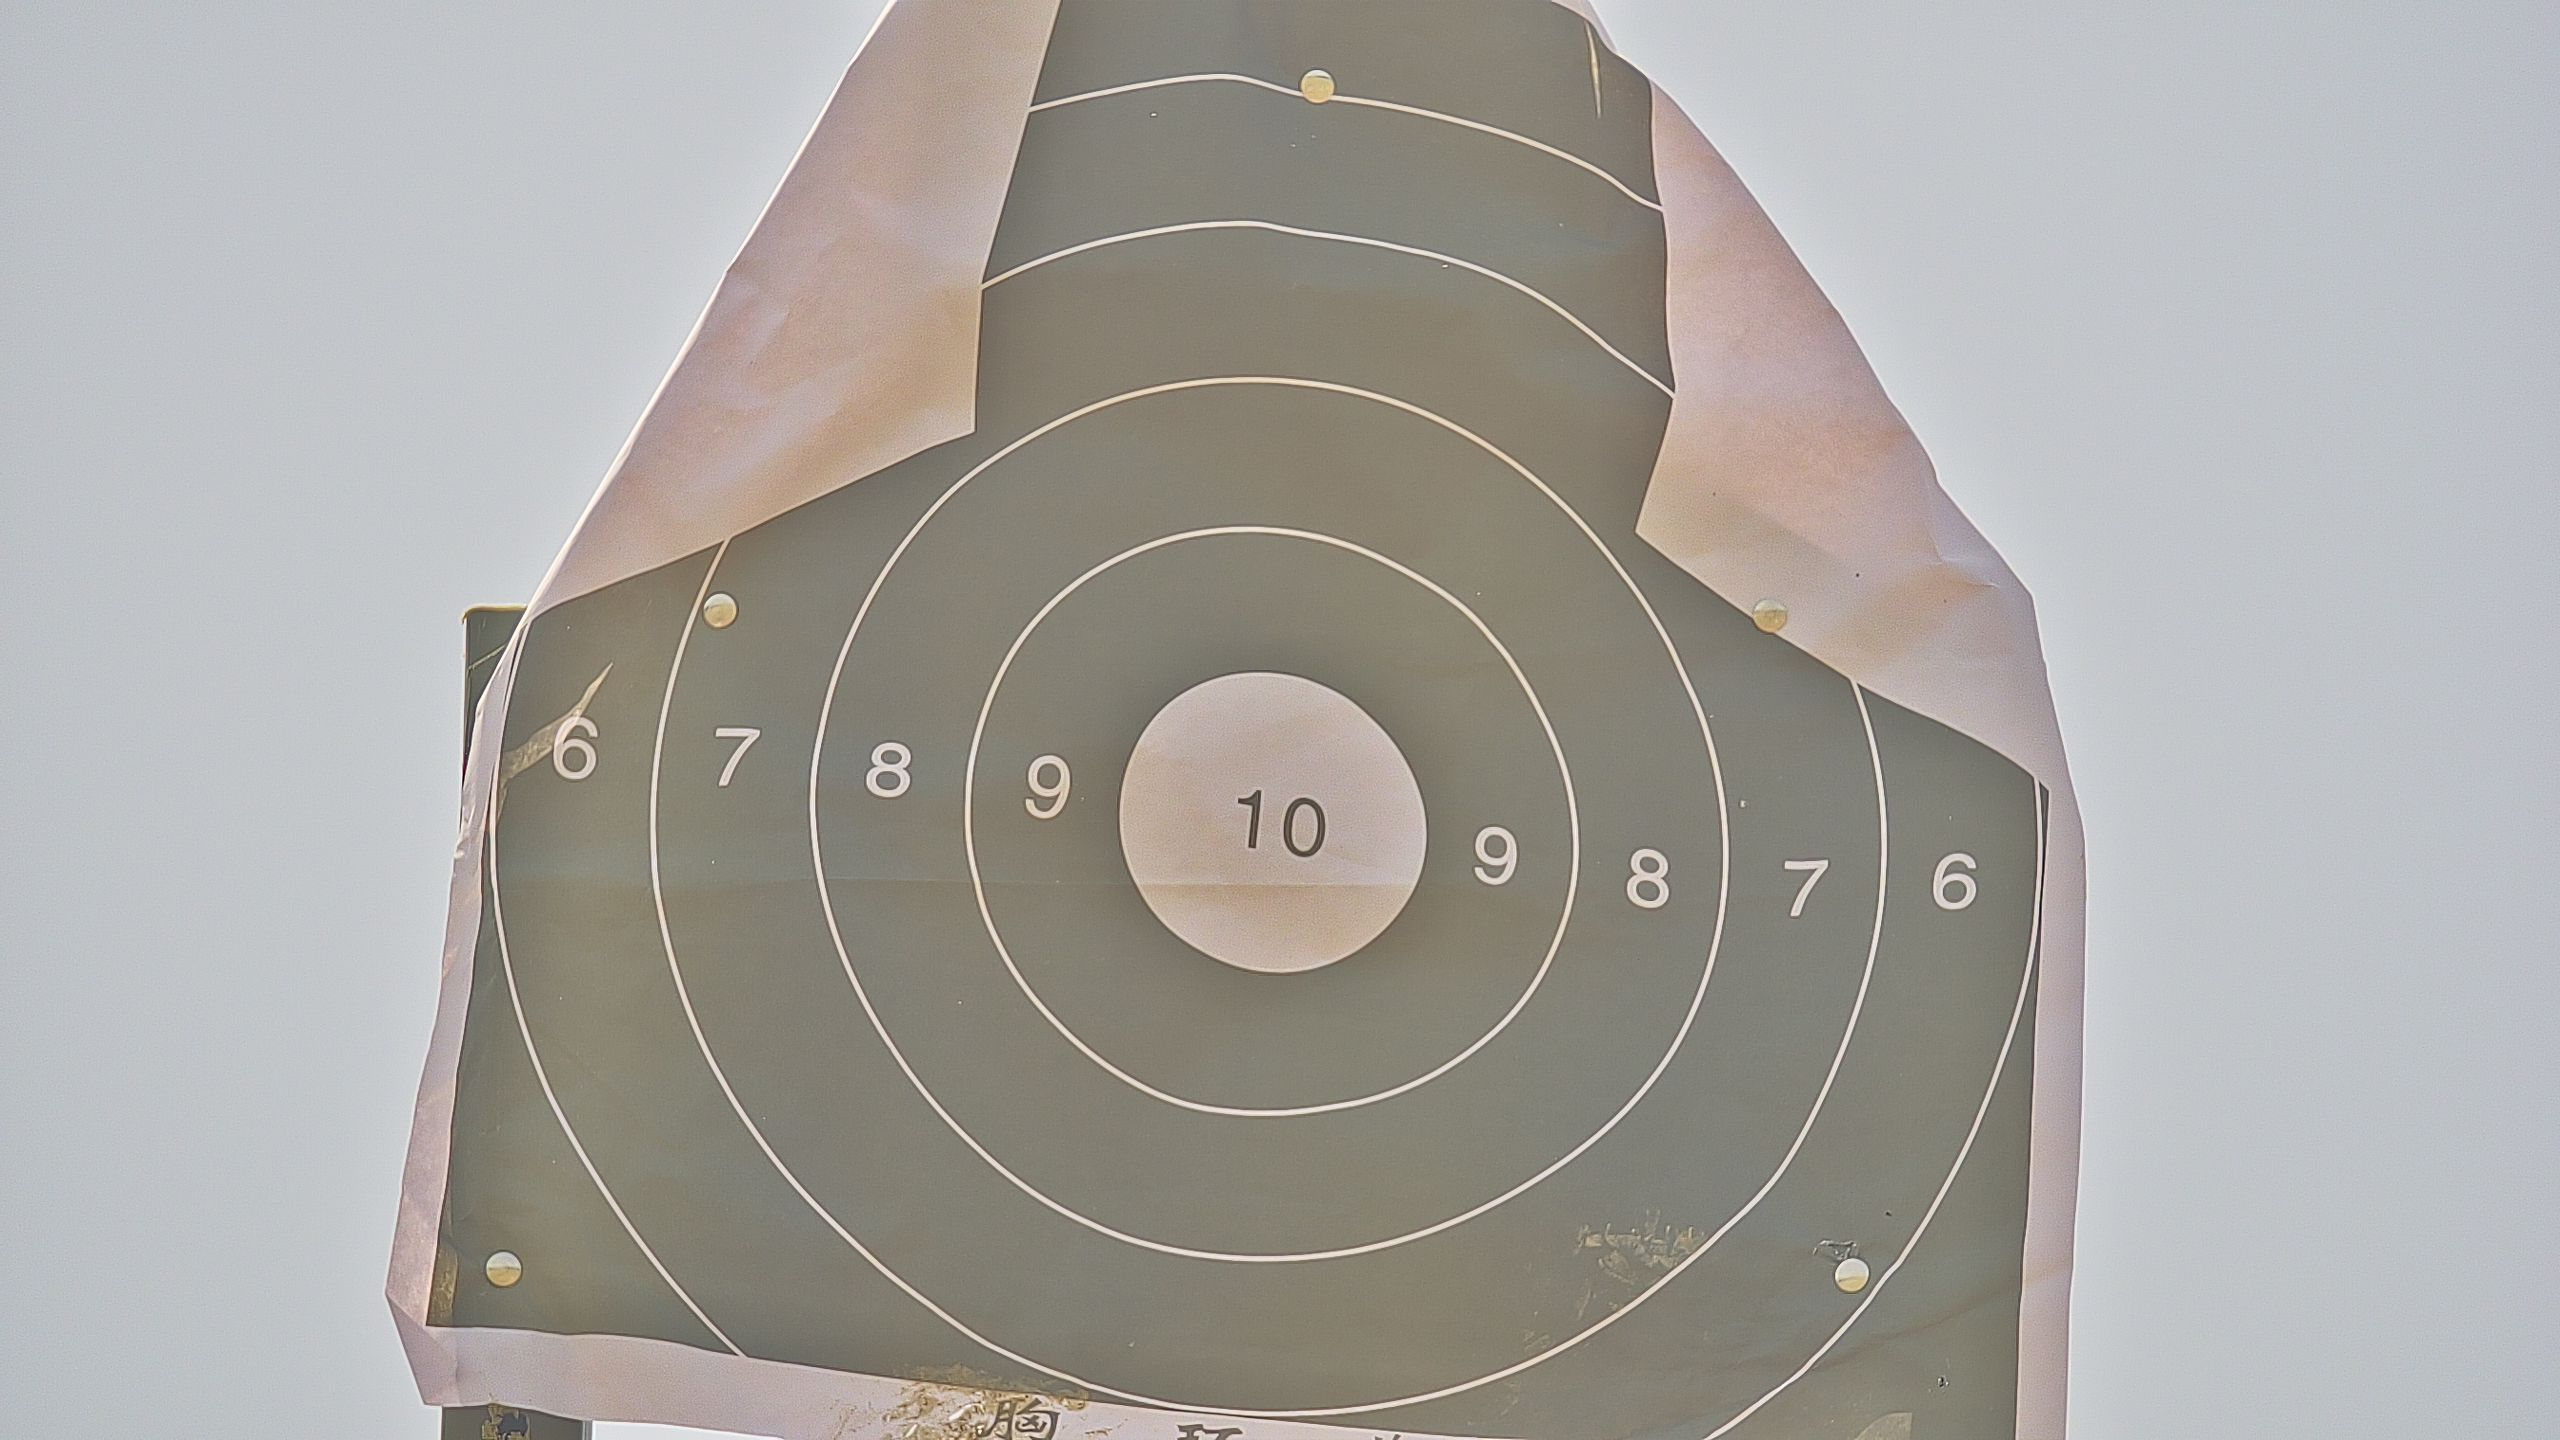kernel: (1264, 816, 1278, 825)
target: (425, 18, 2047, 1440)
ten: (1116, 666, 1428, 972)
